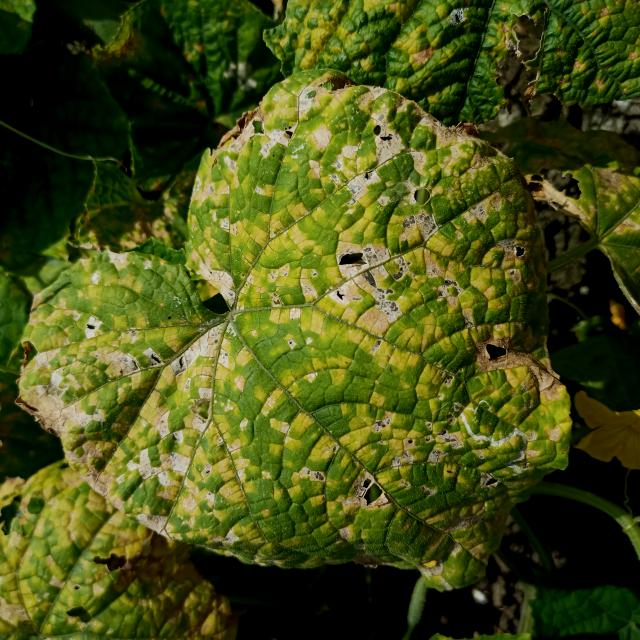disease_cucumber: (25, 98, 576, 594), (0, 480, 234, 640), (456, 397, 526, 476)
